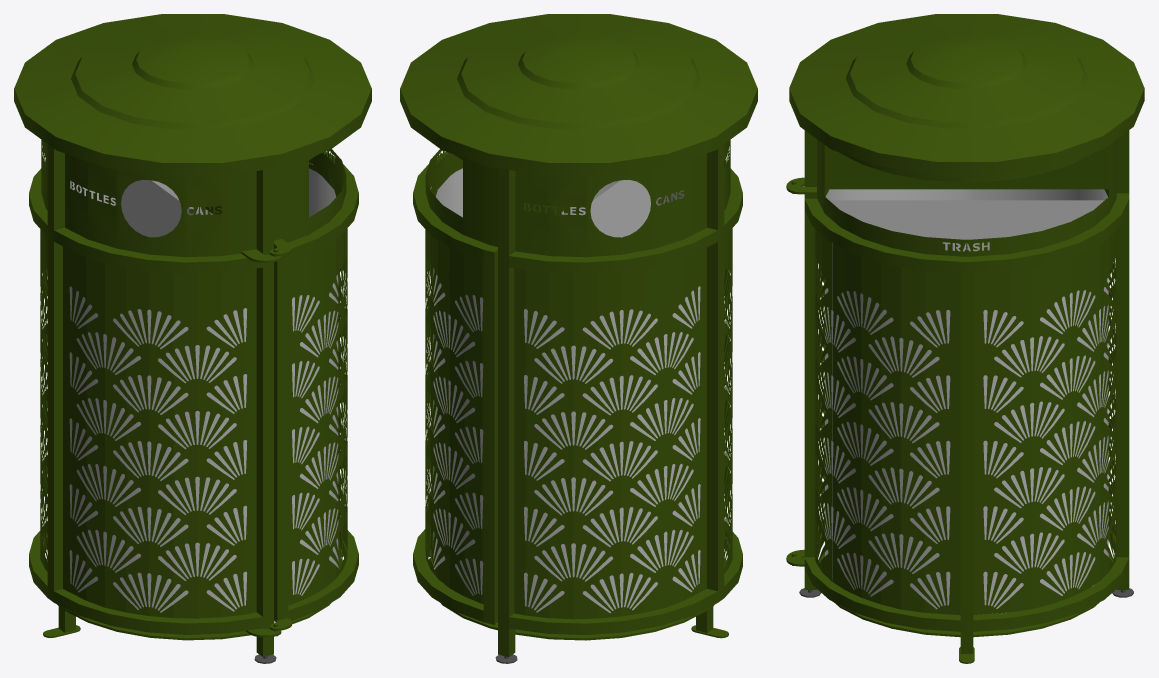
3 renders of one model, left to right at view 1: azimuth 30°, elevation 25°; view 2: azimuth 150°, elevation 25°; view 3: azimuth 270°, elevation 25°, orthographic.
Parts seen in each view (by area): view 1: mesh42_mesh42-geometry, mesh59_mesh59-geometry, mesh6_mesh6-geometry, mesh3_mesh3-geometry, mesh5_mesh5-geometry, mesh2_mesh2-geometry, mesh58_mesh58-geometry, mesh13_mesh13-geometry, mesh9_mesh9-geometry, mesh7_mesh7-geometry, mesh25_mesh25-geometry, mesh1_mesh1-geometry (+7 smaller); view 2: mesh42_mesh42-geometry, mesh59_mesh59-geometry, mesh5_mesh5-geometry, mesh2_mesh2-geometry, mesh6_mesh6-geometry, mesh3_mesh3-geometry, mesh58_mesh58-geometry, mesh13_mesh13-geometry, mesh9_mesh9-geometry, mesh7_mesh7-geometry, mesh19_mesh19-geometry, mesh11_mesh11-geometry (+6 smaller); view 3: mesh42_mesh42-geometry, mesh59_mesh59-geometry, mesh5_mesh5-geometry, mesh2_mesh2-geometry, mesh3_mesh3-geometry, mesh6_mesh6-geometry, mesh11_mesh11-geometry, mesh57_mesh57-geometry, mesh60_mesh60-geometry, mesh7_mesh7-geometry, mesh1_mesh1-geometry, mesh4_mesh4-geometry (+4 smaller).
Part boxes in pixels (bbox=[...]): mesh42_mesh42-geometry: bbox=[14, 14, 371, 175]; mesh59_mesh59-geometry: bbox=[69, 168, 338, 623]; mesh6_mesh6-geometry: bbox=[40, 229, 347, 618]; mesh3_mesh3-geometry: bbox=[40, 163, 346, 617]; mesh5_mesh5-geometry: bbox=[40, 228, 347, 618]; mesh2_mesh2-geometry: bbox=[44, 180, 343, 617]; mesh58_mesh58-geometry: bbox=[41, 139, 256, 257]; mesh13_mesh13-geometry: bbox=[29, 168, 262, 634]; mesh9_mesh9-geometry: bbox=[256, 168, 273, 656]; mesh7_mesh7-geometry: bbox=[47, 170, 339, 591]; mesh25_mesh25-geometry: bbox=[274, 246, 288, 620]; mesh1_mesh1-geometry: bbox=[63, 166, 322, 605]; mesh42_mesh42-geometry: bbox=[400, 14, 757, 175]; mesh59_mesh59-geometry: bbox=[433, 168, 700, 624]; mesh5_mesh5-geometry: bbox=[425, 228, 732, 619]; mesh2_mesh2-geometry: bbox=[426, 163, 731, 618]; mesh6_mesh6-geometry: bbox=[425, 229, 732, 619]; mesh3_mesh3-geometry: bbox=[430, 180, 727, 617]; mesh58_mesh58-geometry: bbox=[515, 140, 730, 257]; mesh13_mesh13-geometry: bbox=[509, 168, 742, 634]; mesh9_mesh9-geometry: bbox=[498, 168, 515, 656]; mesh7_mesh7-geometry: bbox=[432, 170, 724, 591]; mesh19_mesh19-geometry: bbox=[483, 245, 497, 624]; mesh11_mesh11-geometry: bbox=[413, 152, 489, 622]; mesh42_mesh42-geometry: bbox=[789, 14, 1144, 174]; mesh59_mesh59-geometry: bbox=[825, 189, 1108, 614]; mesh5_mesh5-geometry: bbox=[822, 189, 1111, 612]; mesh2_mesh2-geometry: bbox=[818, 231, 1115, 614]; mesh3_mesh3-geometry: bbox=[815, 229, 1115, 614]; mesh6_mesh6-geometry: bbox=[824, 189, 1109, 612]; mesh11_mesh11-geometry: bbox=[804, 198, 1129, 631]; mesh57_mesh57-geometry: bbox=[817, 139, 1116, 256]; mesh60_mesh60-geometry: bbox=[824, 145, 1108, 189]; mesh7_mesh7-geometry: bbox=[960, 273, 973, 620]; mesh1_mesh1-geometry: bbox=[814, 228, 985, 614]; mesh4_mesh4-geometry: bbox=[817, 231, 1116, 615].
Bounding box in the file's own units: 0.4571 × 0.7648 × 0.4541.
